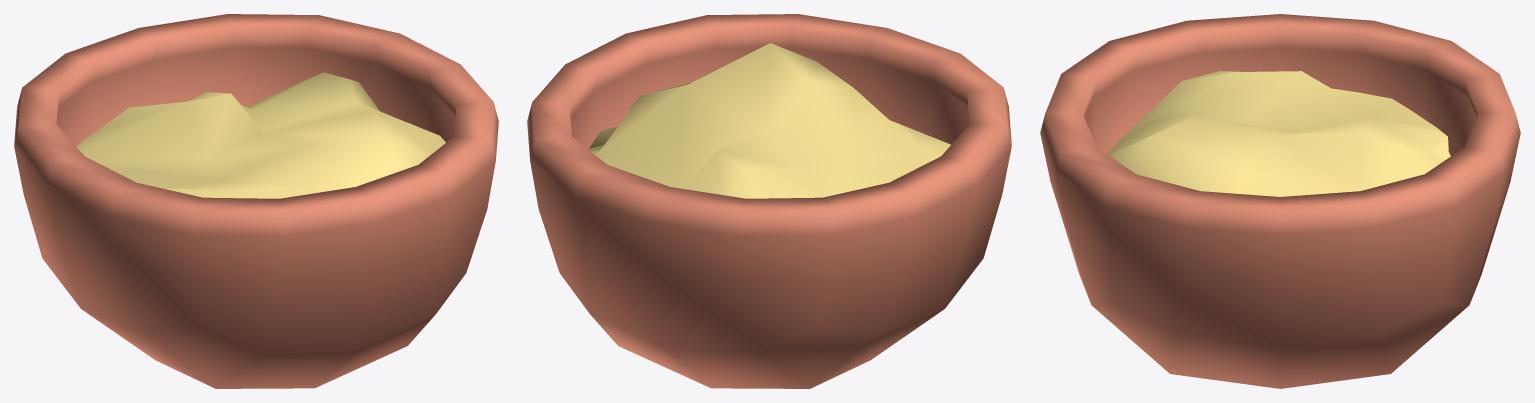
Rendered from Bakery_Dough_02.fbx.
3 renders of one model, left to right at view 1: azimuth 30°, elevation 25°; view 2: azimuth 150°, elevation 25°; view 3: azimuth 270°, elevation 25°, orthographic.
Parts seen in each view (by area): view 1: Bakery_Dough_02; view 2: Bakery_Dough_02; view 3: Bakery_Dough_02.
Part boxes in pixels (bbox=[...]): Bakery_Dough_02: bbox=[14, 14, 498, 388]; Bakery_Dough_02: bbox=[527, 14, 1011, 388]; Bakery_Dough_02: bbox=[1040, 14, 1520, 388].
Size of the model in its own units: 92.42 by 53.75 by 92.42.
